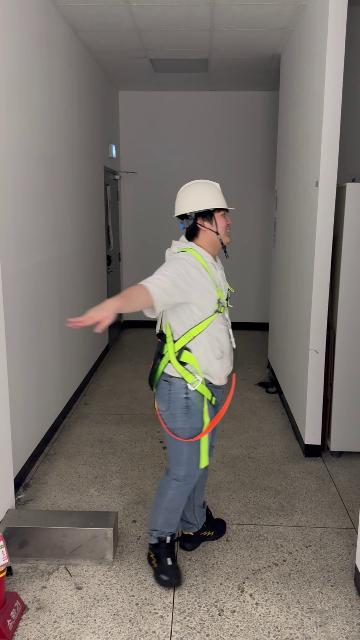helmet_worn: (172, 179, 235, 219)
shoe_worn: (180, 504, 226, 550), (147, 537, 181, 587)
vest_worn: (148, 252, 237, 451)
